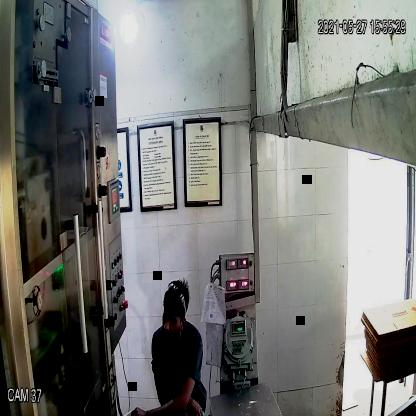no_goggles: (160, 310, 184, 326)
